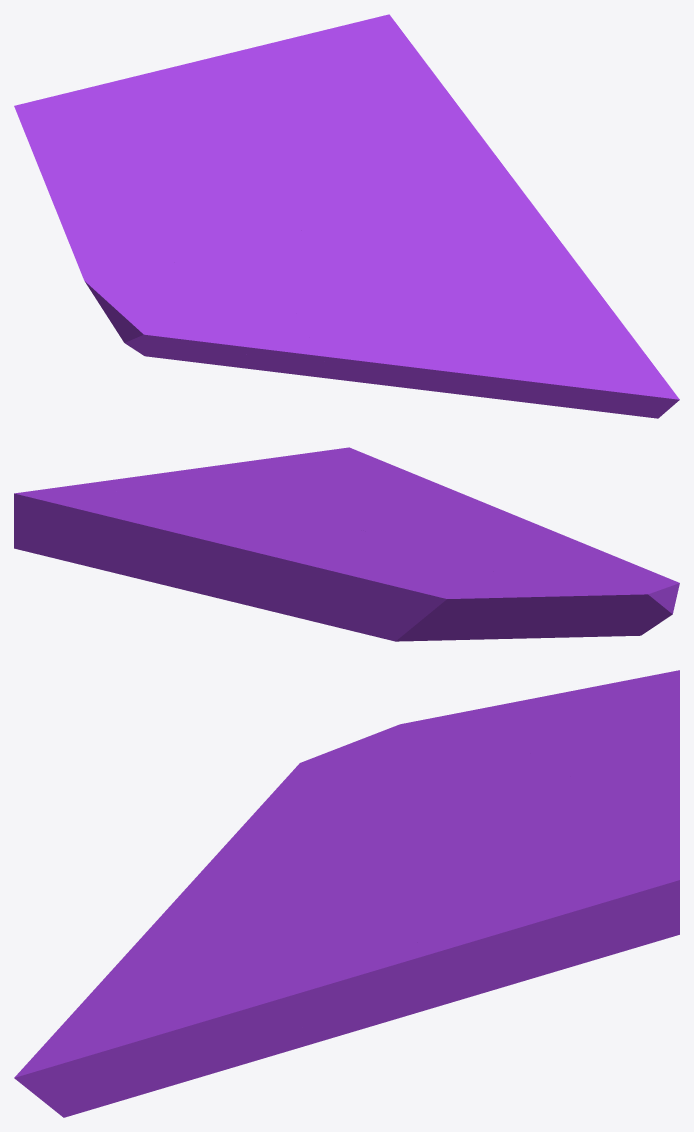
Rendered from Window_150_2_chunks.fbx.
3 renders of one model, top to bottom at view 1: azimuth 30°, elevation 25°; view 2: azimuth 150°, elevation 25°; view 3: azimuth 270°, elevation 25°, orthographic. The views are drawn at different scales.
Parts seen in each view (by area): view 1: Window_150_2_10, Window_150_2_3, Window_150_2_1, Window_150_2_11, Window_150_2_8, Window_150_2_4, Window_150_2_0, Window_150_2_7, Window_150_2_5, Window_150_2_27, Window_150_2_2, Window_150_2_24 (+4 smaller); view 2: Window_150_2_3, Window_150_2_1, Window_150_2_4, Window_150_2_10, Window_150_2_11, Window_150_2_5, Window_150_2_8, Window_150_2_0, Window_150_2_7, Window_150_2_27, Window_150_2_2, Window_150_2_24 (+3 smaller); view 3: Window_150_2_3, Window_150_2_10, Window_150_2_1, Window_150_2_11, Window_150_2_26, Window_150_2_8, Window_150_2_0, Window_150_2_24, Window_150_2_4, Window_150_2_27, Window_150_2_7, Window_150_2_5 (+6 smaller).
Part boxes in pixels (<box>): Window_150_2_10: <box>422,279,679,416</box>; Window_150_2_3: <box>180,14,440,148</box>; Window_150_2_1: <box>14,65,220,204</box>; Window_150_2_11: <box>280,194,588,312</box>; Window_150_2_8: <box>254,217,435,389</box>; Window_150_2_4: <box>63,229,235,359</box>; Window_150_2_0: <box>114,115,286,227</box>; Window_150_2_7: <box>197,231,345,380</box>; Window_150_2_5: <box>49,192,253,269</box>; Window_150_2_27: <box>407,83,480,215</box>; Window_150_2_2: <box>244,144,373,229</box>; Window_150_2_24: <box>432,188,573,258</box>; Window_150_2_3: <box>14,485,295,602</box>; Window_150_2_1: <box>235,545,546,641</box>; Window_150_2_4: <box>542,559,679,637</box>; Window_150_2_10: <box>245,447,502,510</box>; Window_150_2_11: <box>227,462,414,537</box>; Window_150_2_5: <box>439,546,588,639</box>; Window_150_2_8: <box>399,504,571,545</box>; Window_150_2_0: <box>287,530,511,580</box>; Window_150_2_7: <box>440,539,622,563</box>; Window_150_2_27: <box>74,483,275,497</box>; Window_150_2_2: <box>224,508,443,548</box>; Window_150_2_24: <box>184,464,283,497</box>; Window_150_2_3: <box>489,763,679,950</box>; Window_150_2_10: <box>14,930,227,1113</box>; Window_150_2_1: <box>501,670,679,790</box>; Window_150_2_11: <box>222,833,438,1021</box>; Window_150_2_26: <box>329,925,552,1028</box>; Window_150_2_8: <box>148,818,421,930</box>; Window_150_2_0: <box>420,735,592,830</box>; Window_150_2_24: <box>186,920,392,1048</box>; Window_150_2_4: <box>251,708,481,816</box>; Window_150_2_27: <box>370,898,626,972</box>; Window_150_2_7: <box>207,788,411,865</box>; Window_150_2_5: <box>377,697,540,818</box>.
Bounding box in the file's own units: 939 × 436 × 1106.
